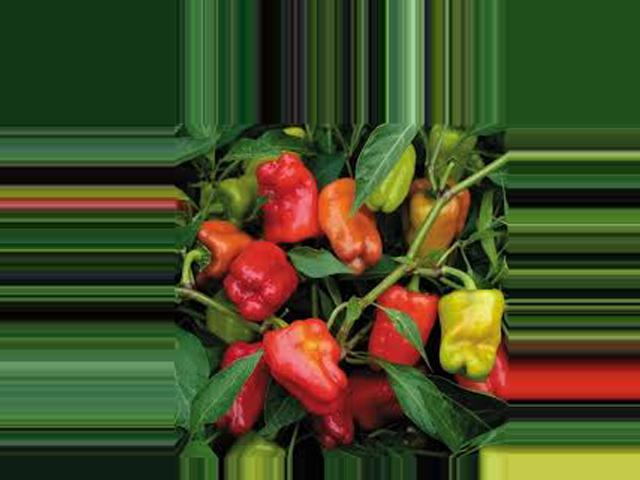bell_pepper: (189, 218, 246, 261)
